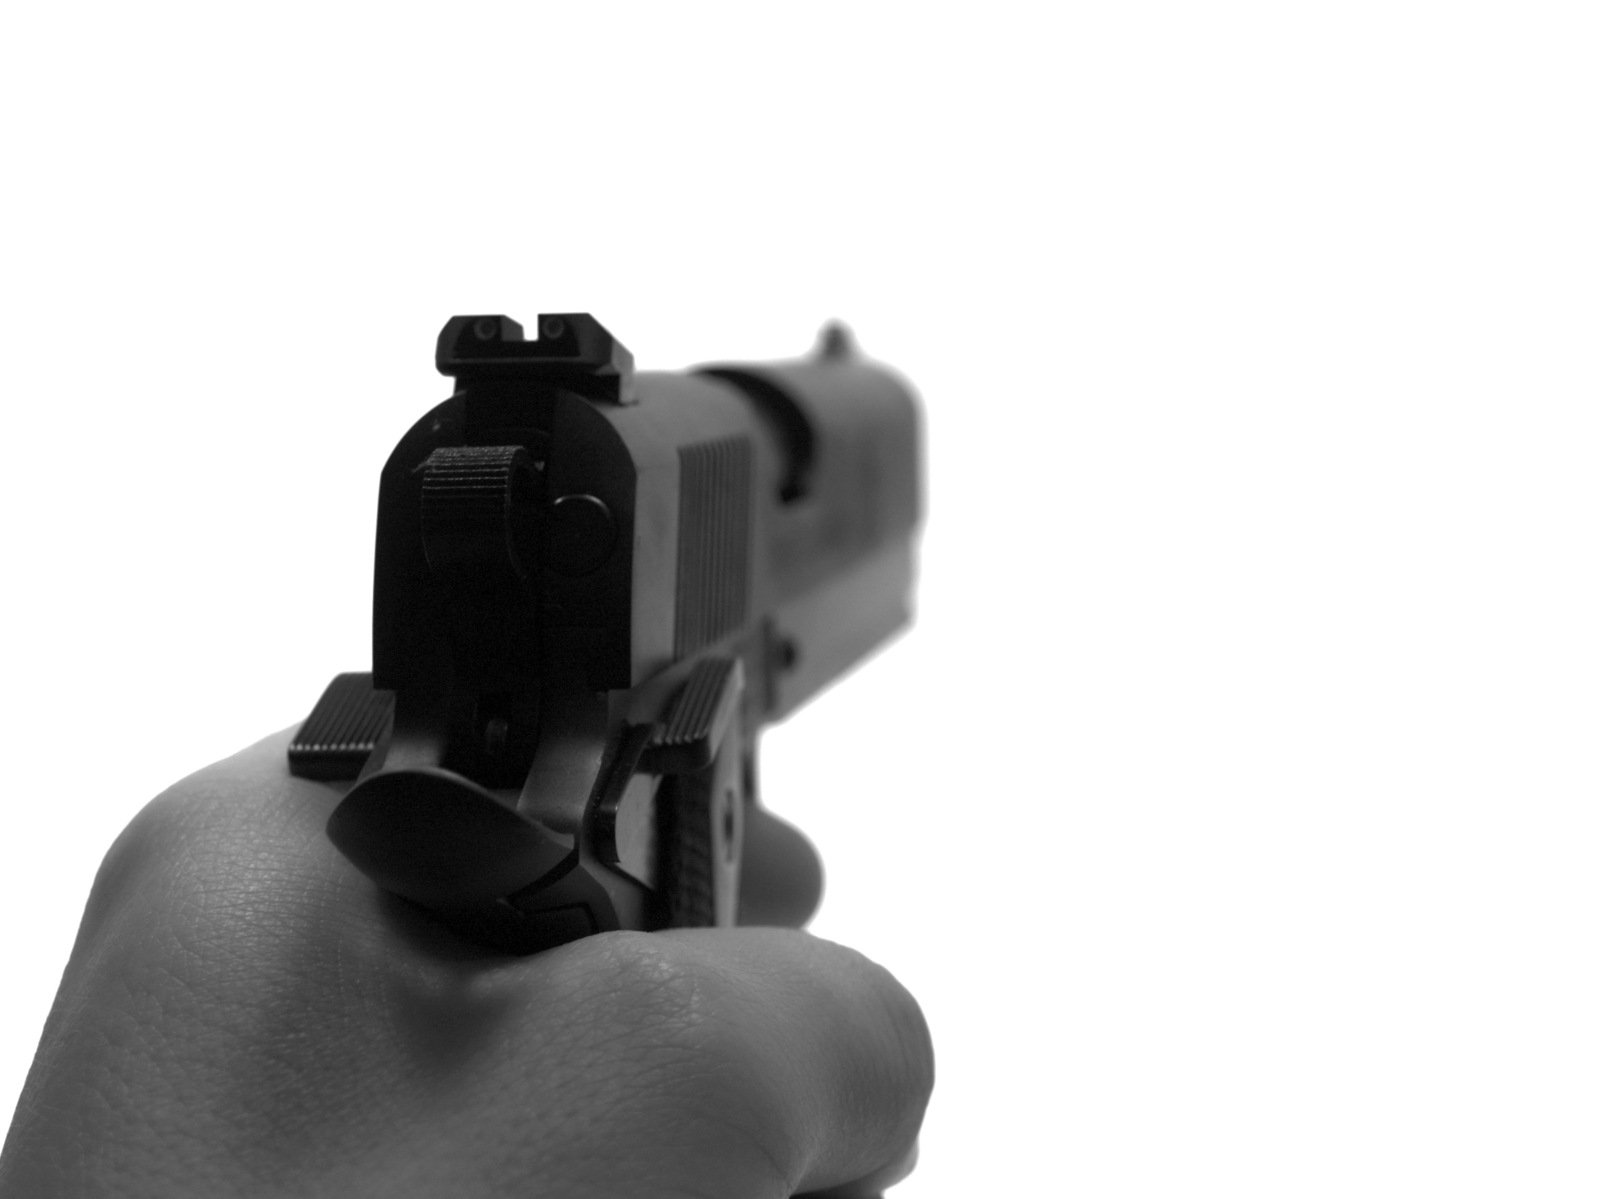gun: (285, 304, 932, 950)
